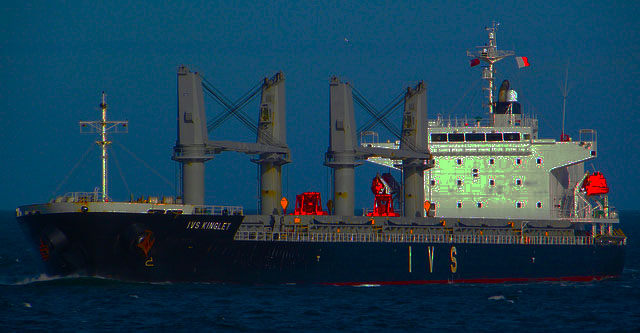bulk carrier: (14, 20, 630, 282)
